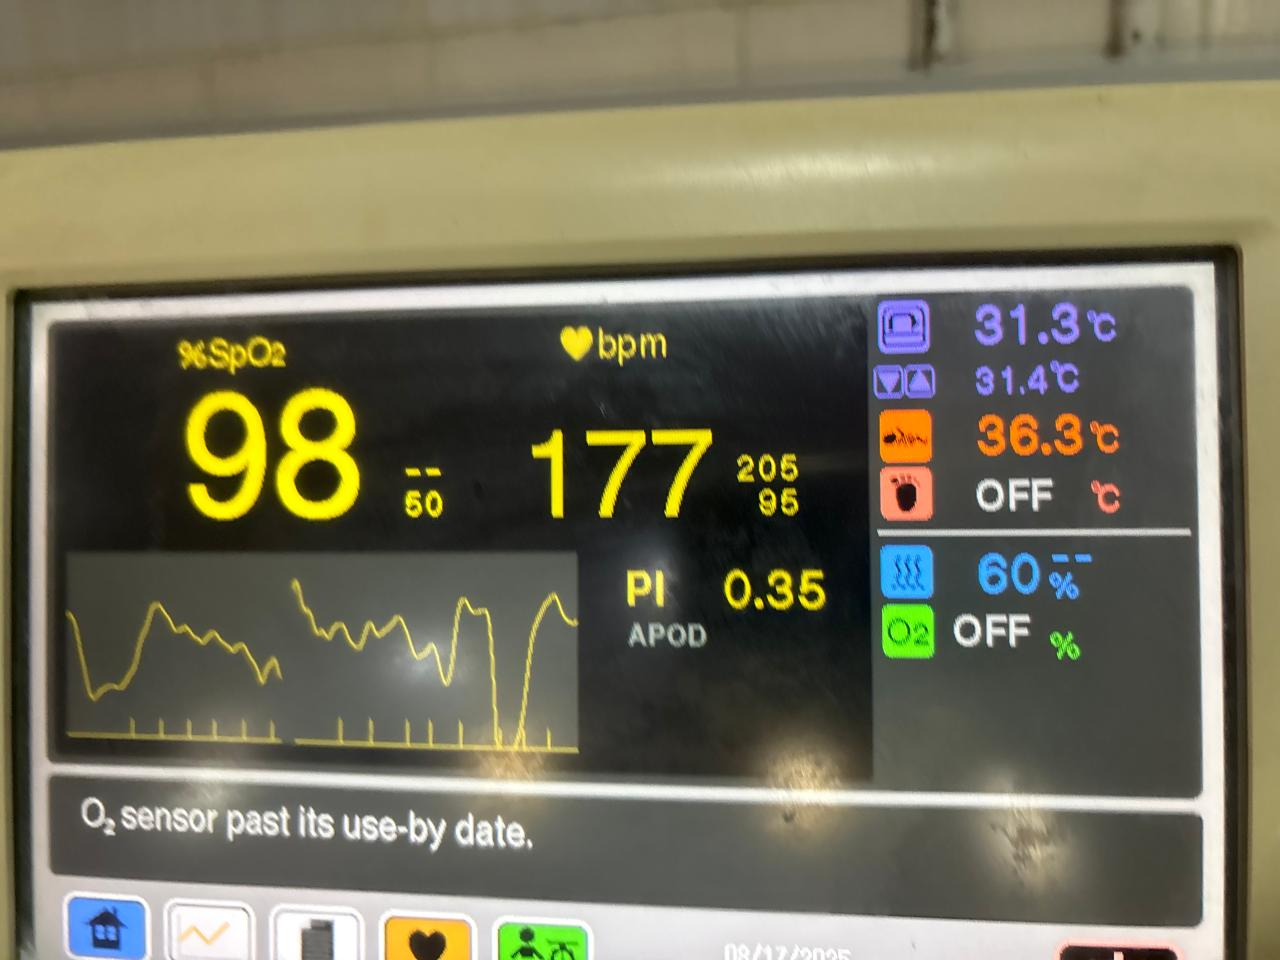heart_rate_value: (500, 401, 726, 537)
humidity_value: (965, 543, 1049, 604)
skin_temp_value: (953, 395, 1091, 474)
spo2_value: (159, 380, 377, 537)
